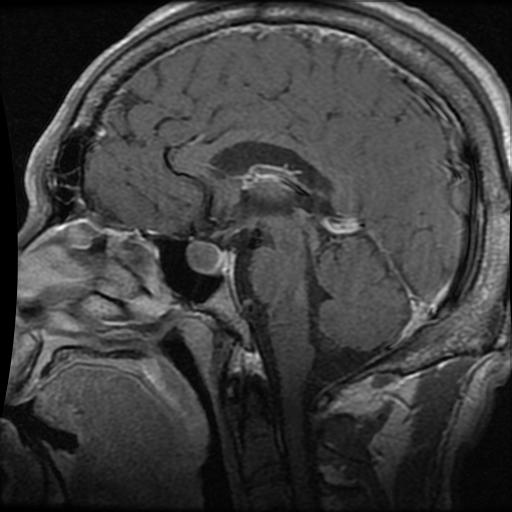Pituirity_tumour: (189, 242, 220, 269)
